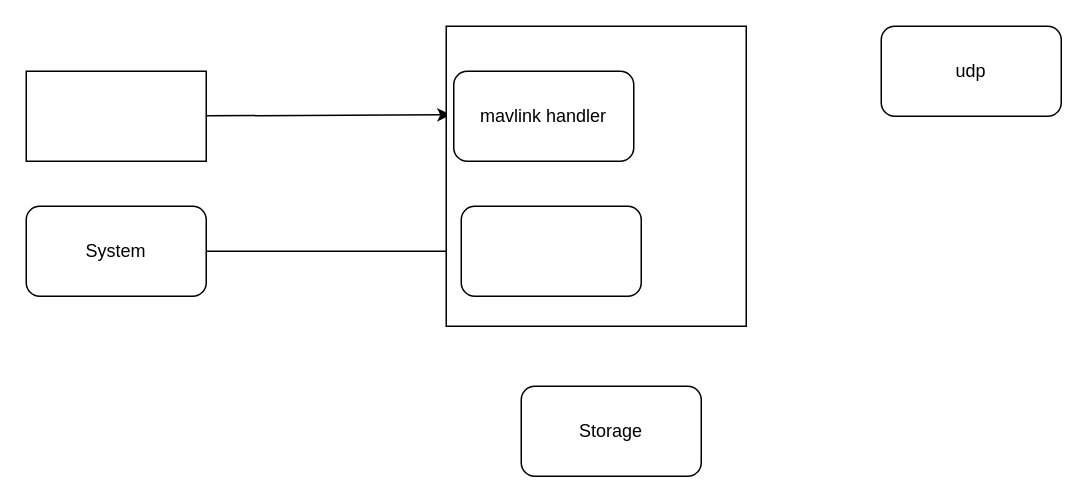
Some shapes in this 1088 by 503 pixel diagram are drawn without their labels. The shapes that lost their labels are listed below. From the top down, each one's box as (x1, y1, x2, y2) in pixels, then its label:
(25, 70, 206, 161): SITL
(460, 205, 641, 296): zmq handler
